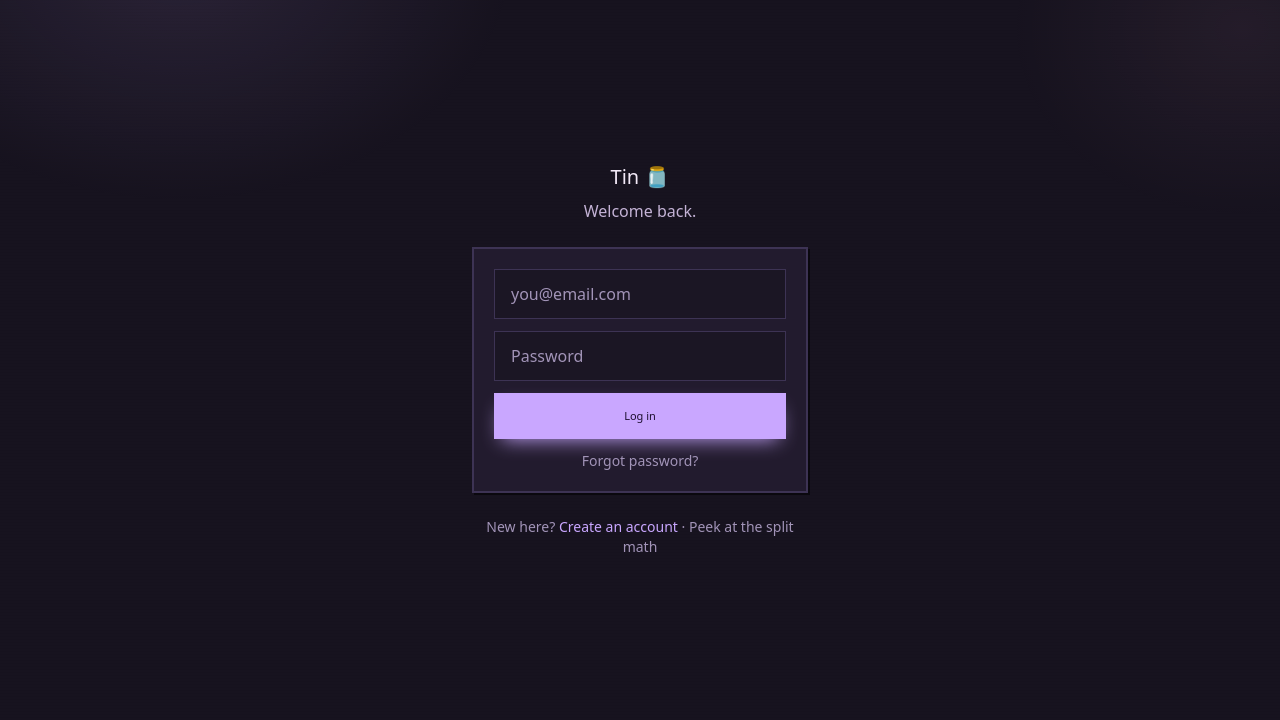
explains an invalid credential response without echoing its message
In the field labelled "email": (640,294) [494,269,786,319], type "test@example.test"
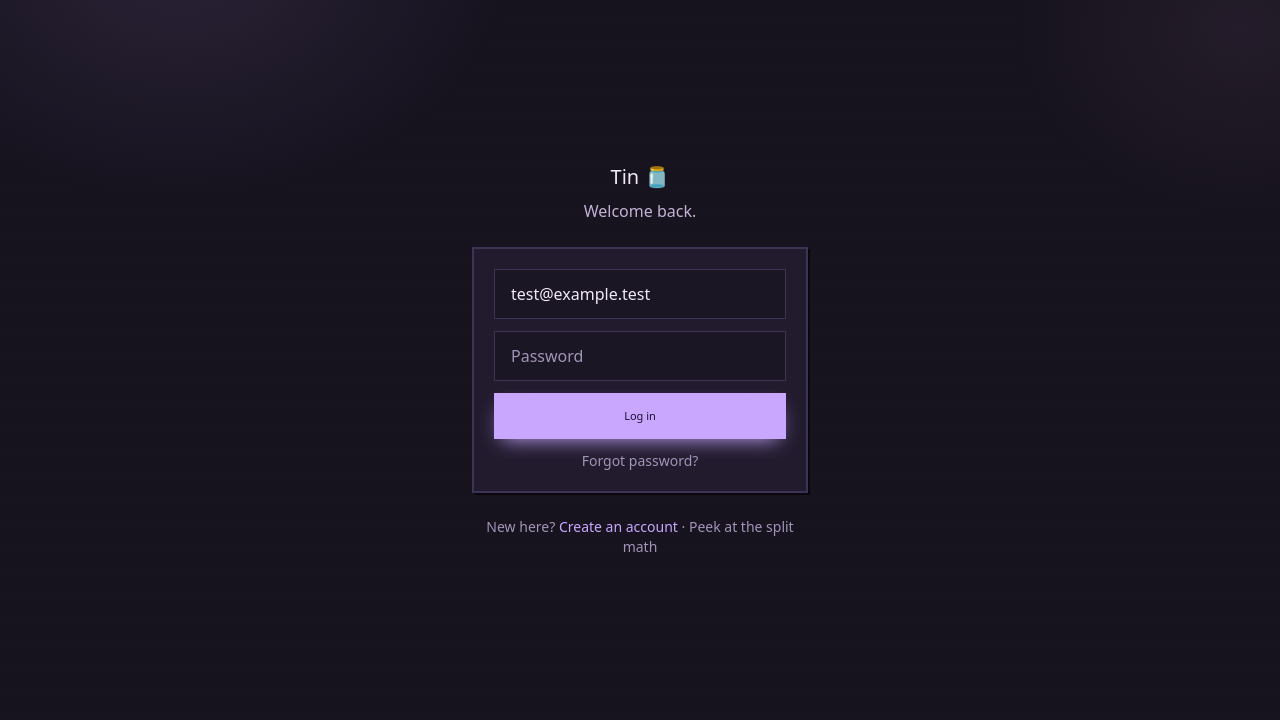
In the password field labelled "Password": (640,356) [494,331,786,381], type "wrong-password"
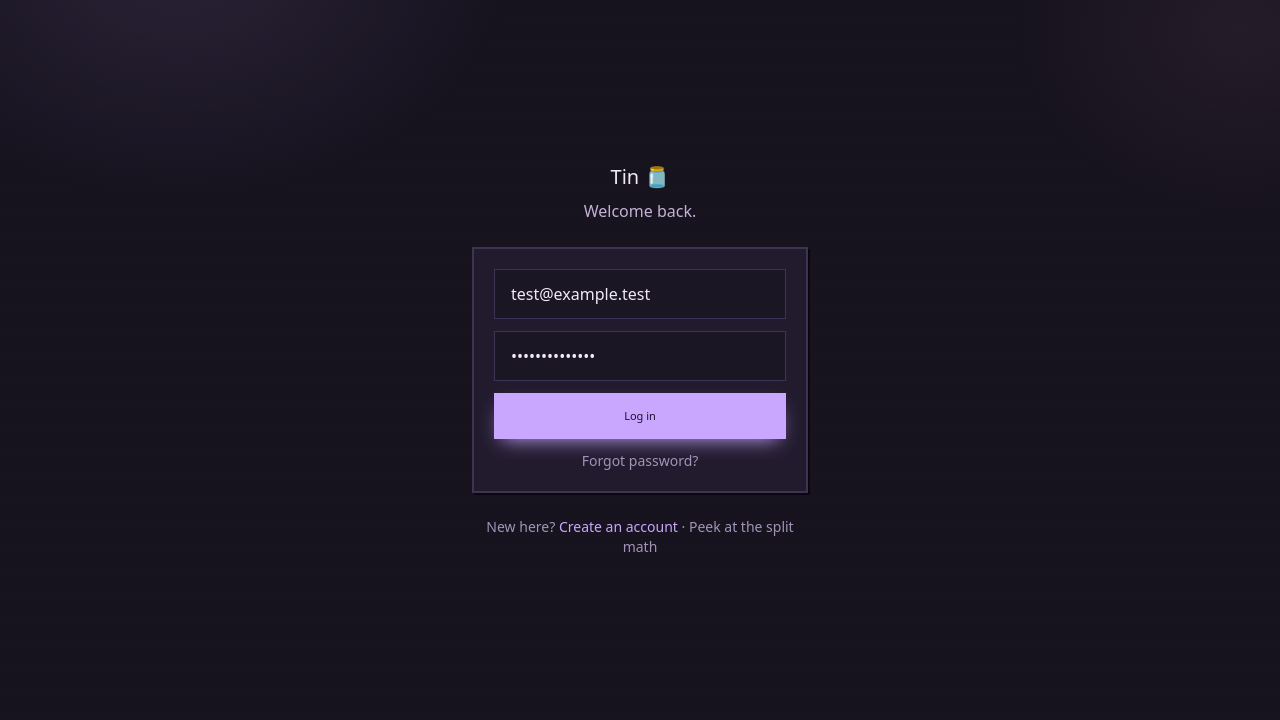
Click the button "Log in": (640,416) [494,393,786,439]
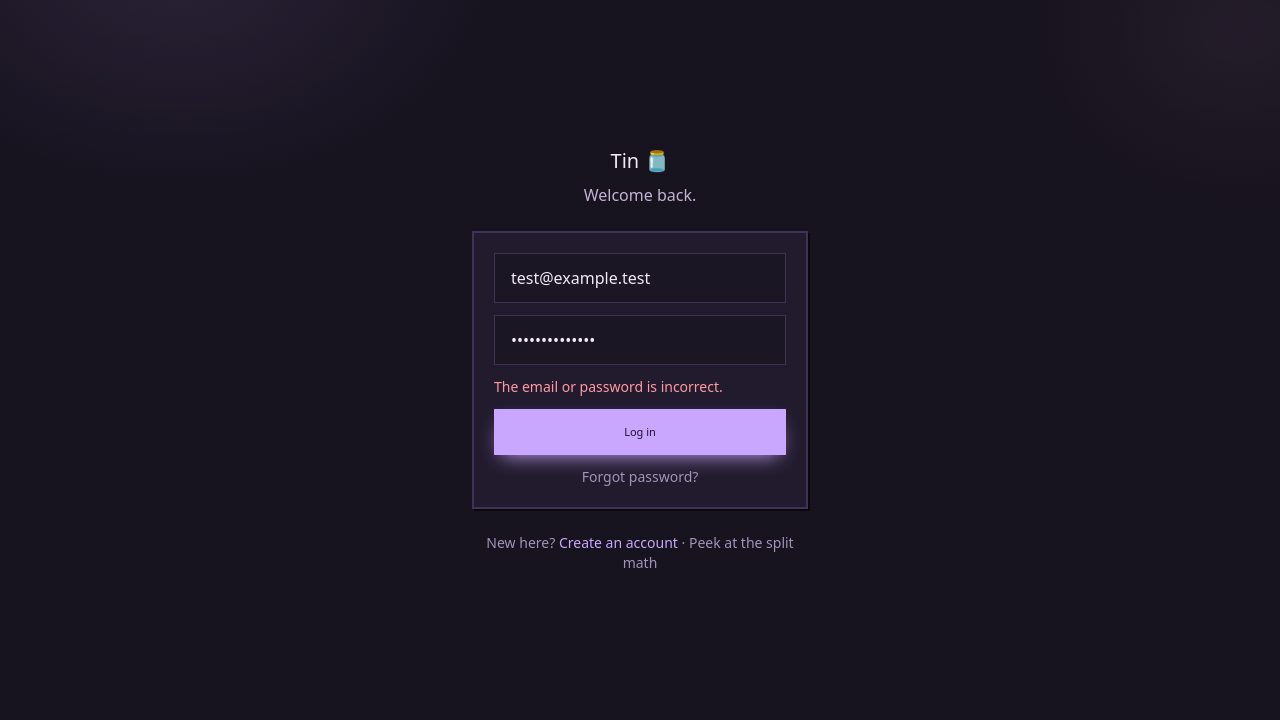
Check: the message reads "The email or password is incorrect.", box [494,377,723,396]
